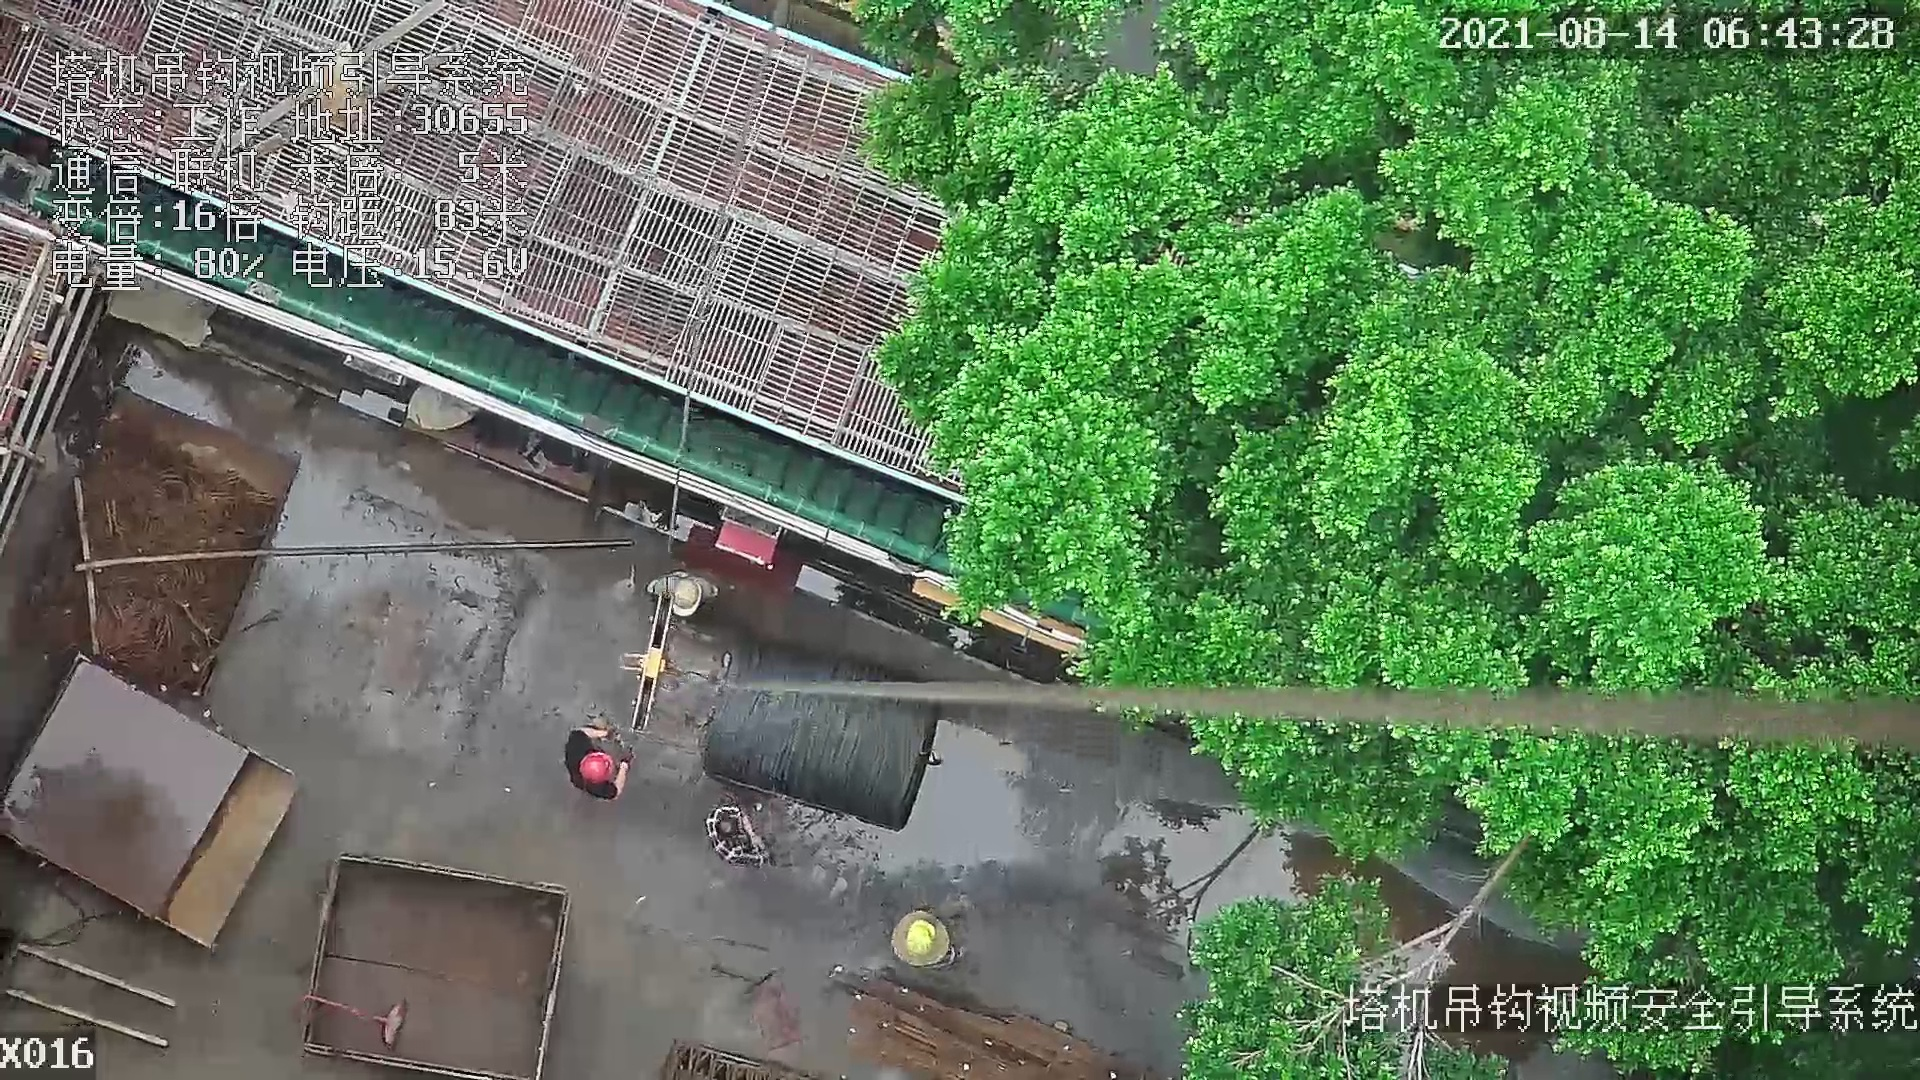helmet: (907, 915, 948, 960), (577, 746, 618, 786), (664, 580, 697, 624)
hook: (617, 591, 669, 732)
person: (700, 787, 777, 883), (563, 717, 636, 804), (883, 900, 958, 976), (653, 567, 727, 621)
